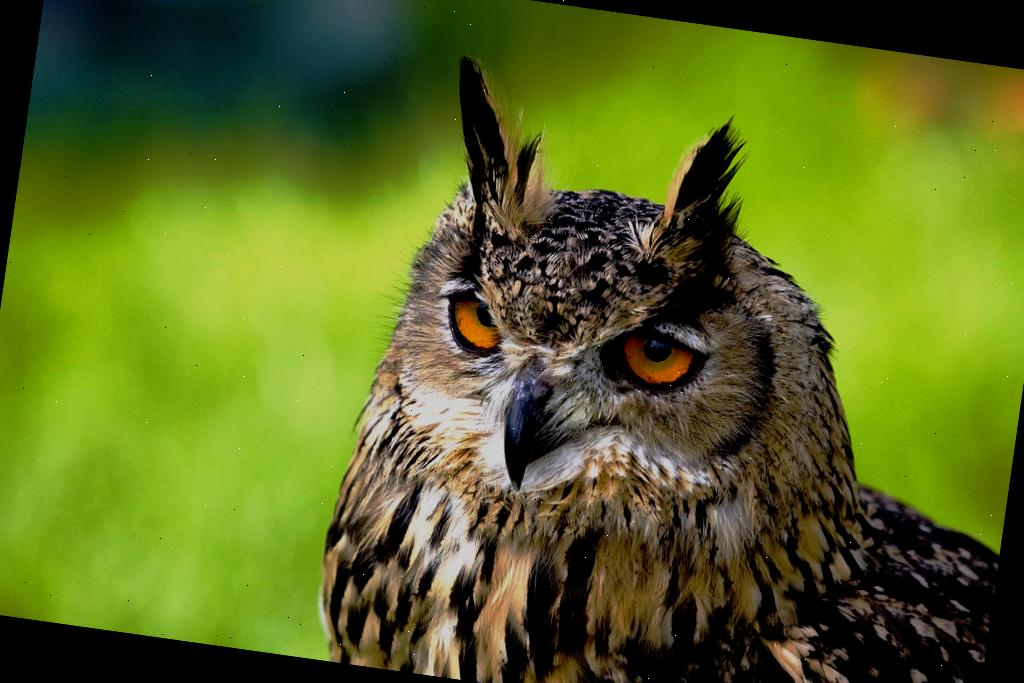Owl: (309, 45, 1024, 683)
